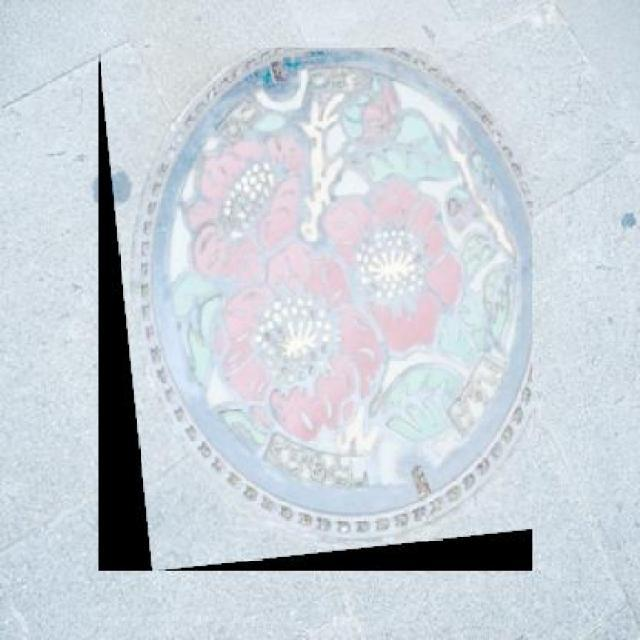Manhole: (99, 48, 532, 571)
